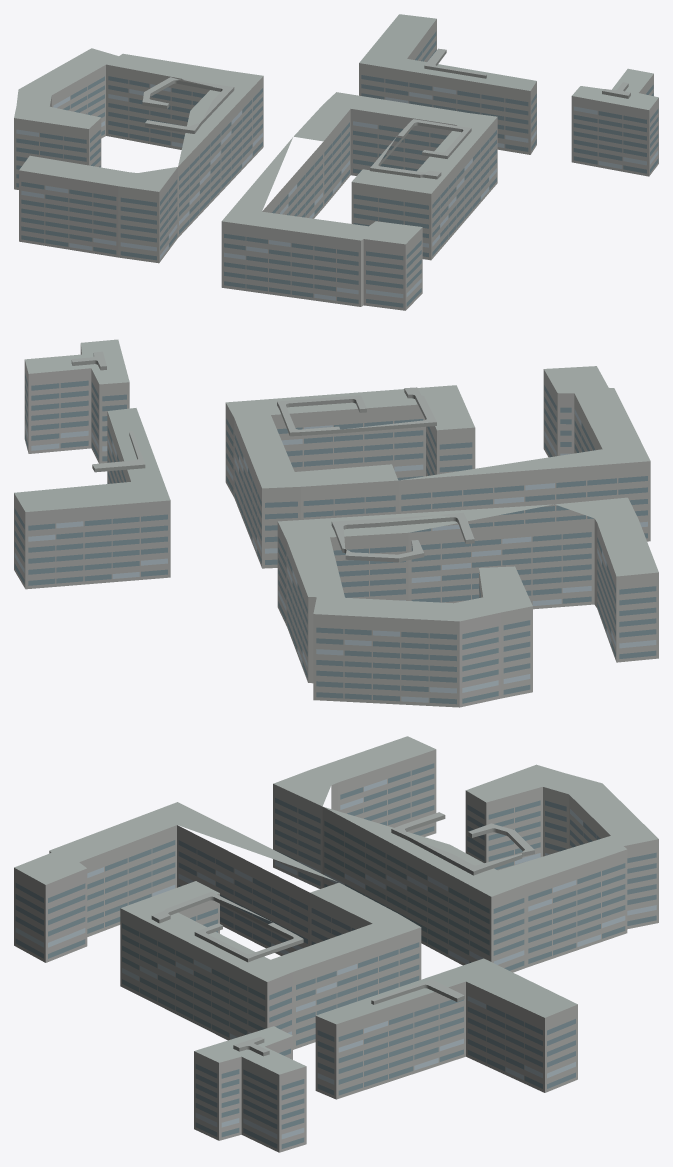
The model's file is apt-a10022468.glb.
3 views of the same model, one above another, from view 1: azimuth 30°, elevation 25°; view 2: azimuth 150°, elevation 25°; view 3: azimuth 270°, elevation 25° (orthographic). The views are drawn at different scales.
Parts seen in each view (by area): view 1: apt-a10022468; view 2: apt-a10022468; view 3: apt-a10022468.
Part boxes in pixels (left/top/right/bottom): apt-a10022468: left=14, top=14, right=658, bottom=310; apt-a10022468: left=14, top=339, right=658, bottom=707; apt-a10022468: left=14, top=736, right=658, bottom=1152.
Bounding box in the file's own units: 236 × 29 × 193.
